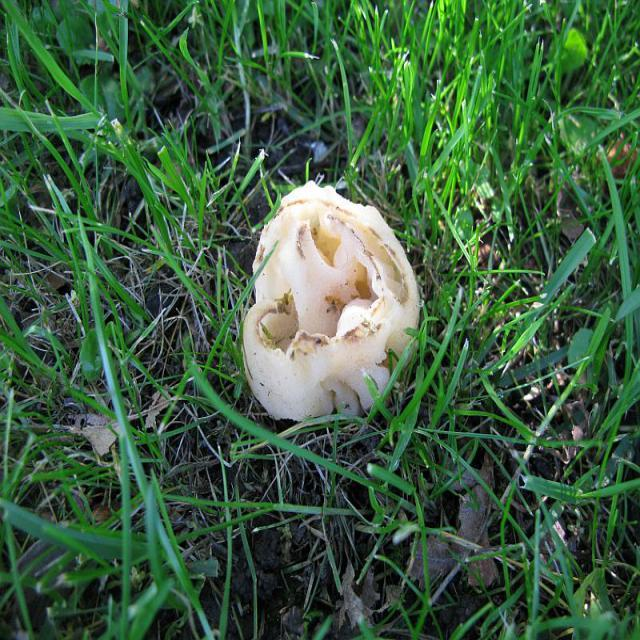Morchella esculenta: (253, 186, 416, 414)
